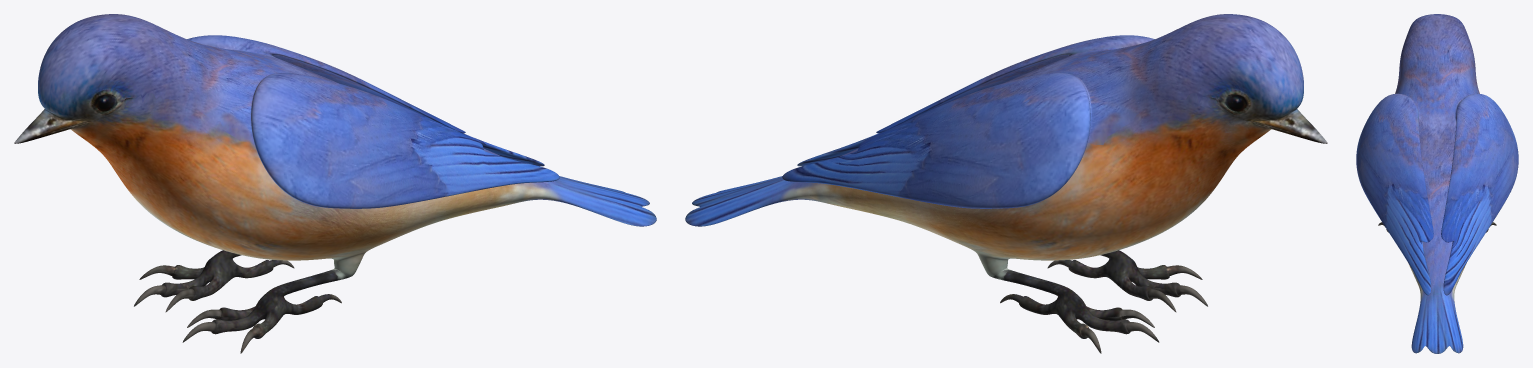
The model's file is pajaro.fbx.
3 views of the same model, side by side, from view 1: azimuth 30°, elevation 25°; view 2: azimuth 150°, elevation 25°; view 3: azimuth 270°, elevation 25° (orthographic). The views are drawn at different scales.
Visible parts, largest first — view 1: 12213_Bird_v1_l3; view 2: 12213_Bird_v1_l3; view 3: 12213_Bird_v1_l3.
Part boxes in pixels (x1=…): 12213_Bird_v1_l3: x1=14, y1=14, x2=656, y2=353; 12213_Bird_v1_l3: x1=685, y1=14, x2=1327, y2=353; 12213_Bird_v1_l3: x1=1356, y1=14, x2=1518, y2=353.
Size of the model in its own units: 275 by 131 by 104.
